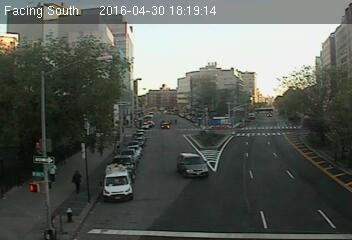neg: (294, 59, 314, 85), (43, 171, 60, 195), (133, 115, 145, 132), (310, 134, 321, 149), (191, 115, 201, 129), (247, 112, 256, 125), (273, 85, 281, 96), (178, 115, 183, 122), (239, 73, 244, 80)
pos: (68, 168, 88, 195), (96, 142, 109, 160)
